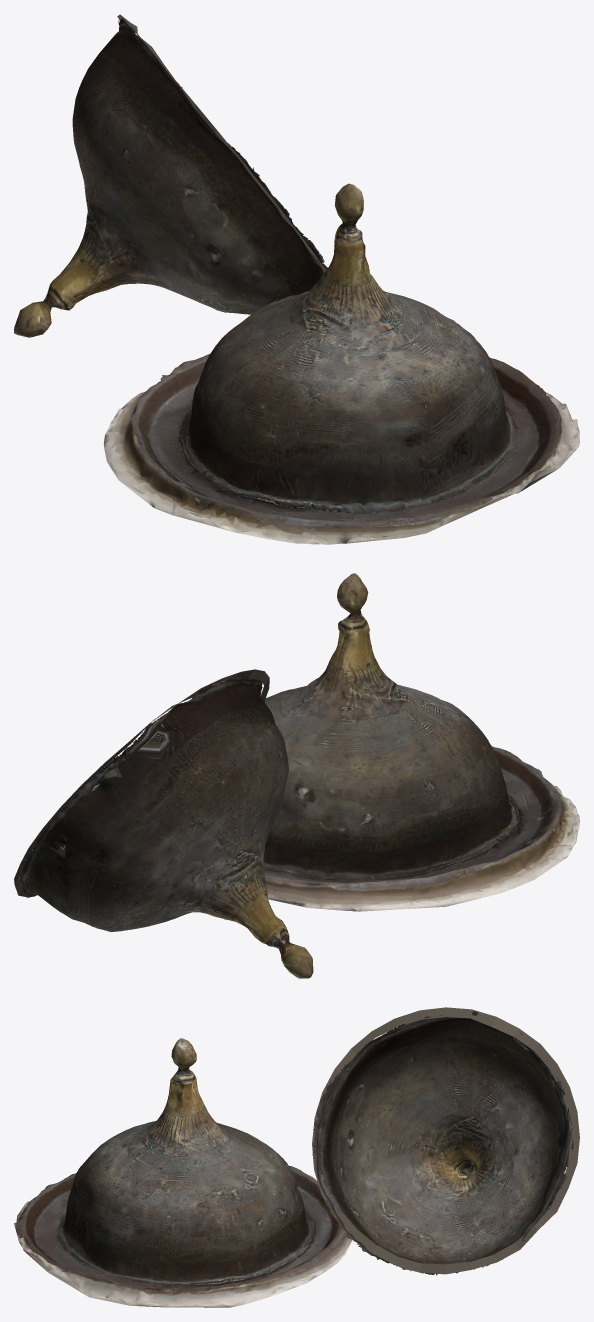
Rendered from qopqoq.gltf.
3 views of the same model, one above another, from view 1: azimuth 30°, elevation 25°; view 2: azimuth 150°, elevation 25°; view 3: azimuth 270°, elevation 25° (orthographic). The views are drawn at different scales.
Parts seen in each view (by area): view 1: Qopqoq_QopqoqScan.002; view 2: Qopqoq_QopqoqScan.002; view 3: Qopqoq_QopqoqScan.002.
Part boxes in pixels (<box>): Qopqoq_QopqoqScan.002: <box>14,14,579,544</box>; Qopqoq_QopqoqScan.002: <box>14,573,579,978</box>; Qopqoq_QopqoqScan.002: <box>14,1007,579,1307</box>.
Bounding box in the file's own units: 18.7 × 12.61 × 29.47.
Materials: 1 (1 with a texture image).
